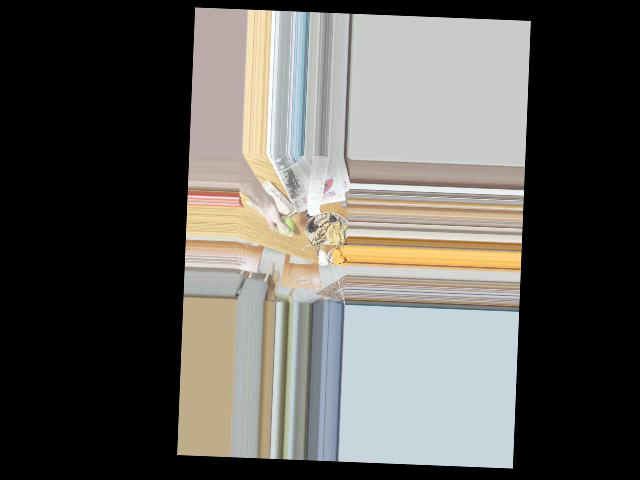apple: (275, 215, 295, 235)
